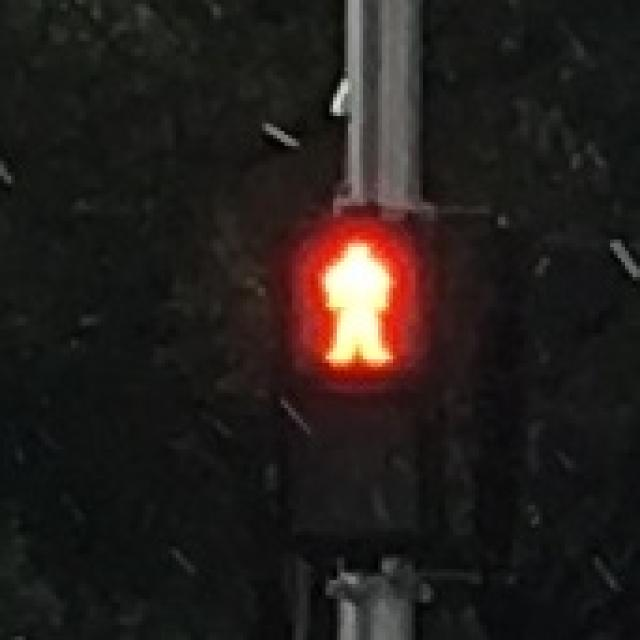red_light: (281, 217, 415, 378)
